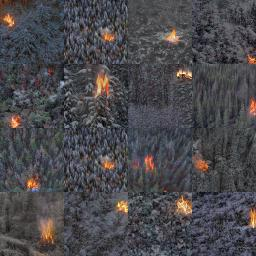Small fire: (36, 216, 54, 246), (92, 73, 111, 99), (176, 195, 193, 216), (194, 156, 211, 175), (141, 155, 157, 171), (163, 29, 181, 42), (2, 12, 16, 28), (102, 30, 117, 44), (25, 177, 40, 191), (6, 115, 22, 128), (247, 209, 256, 231), (175, 67, 194, 77), (247, 98, 256, 119), (103, 160, 118, 171), (117, 199, 129, 212), (246, 54, 256, 65)
